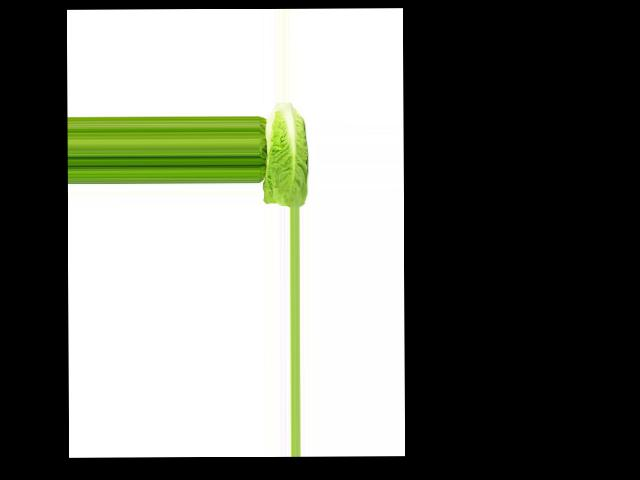lettuce: (264, 102, 315, 208)
